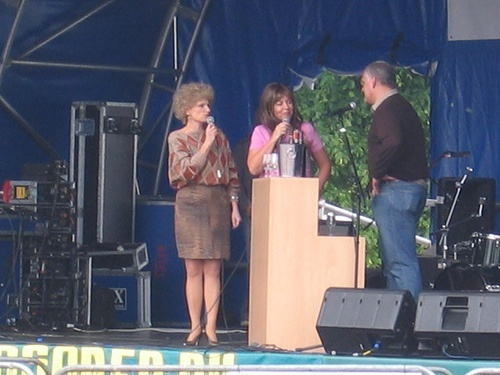head: (185, 84, 213, 124), (362, 63, 390, 103), (269, 88, 297, 128)
person: (166, 90, 239, 334), (361, 65, 430, 296), (241, 84, 333, 199)
